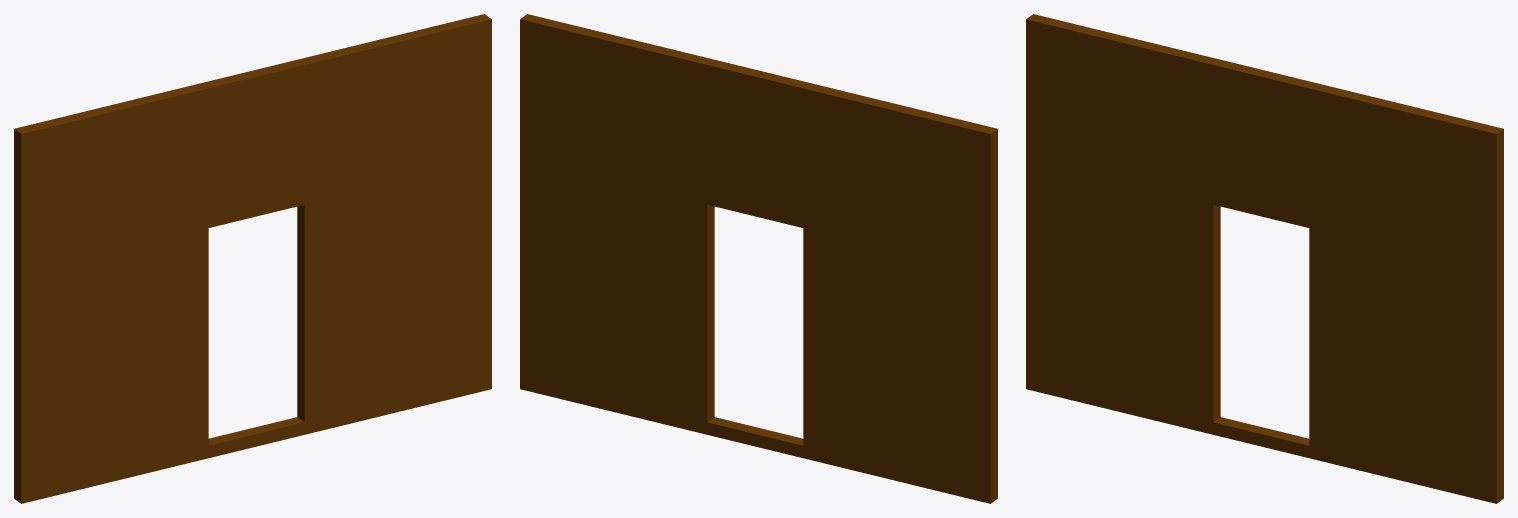
The model's file is doorarmature.fbx.
3 renders of one model, left to right at view 1: azimuth 30°, elevation 25°; view 2: azimuth 150°, elevation 25°; view 3: azimuth 330°, elevation 25°, orthographic.
Visible parts, largest first — view 1: Cube.002; view 2: Cube.002; view 3: Cube.002.
Part boxes in pixels (x1,y1,x2,y2): Cube.002: (14, 14, 491, 503); Cube.002: (520, 14, 997, 503); Cube.002: (1026, 14, 1503, 503).
Bounding box in the file's own units: 1799 × 1351 × 48.
